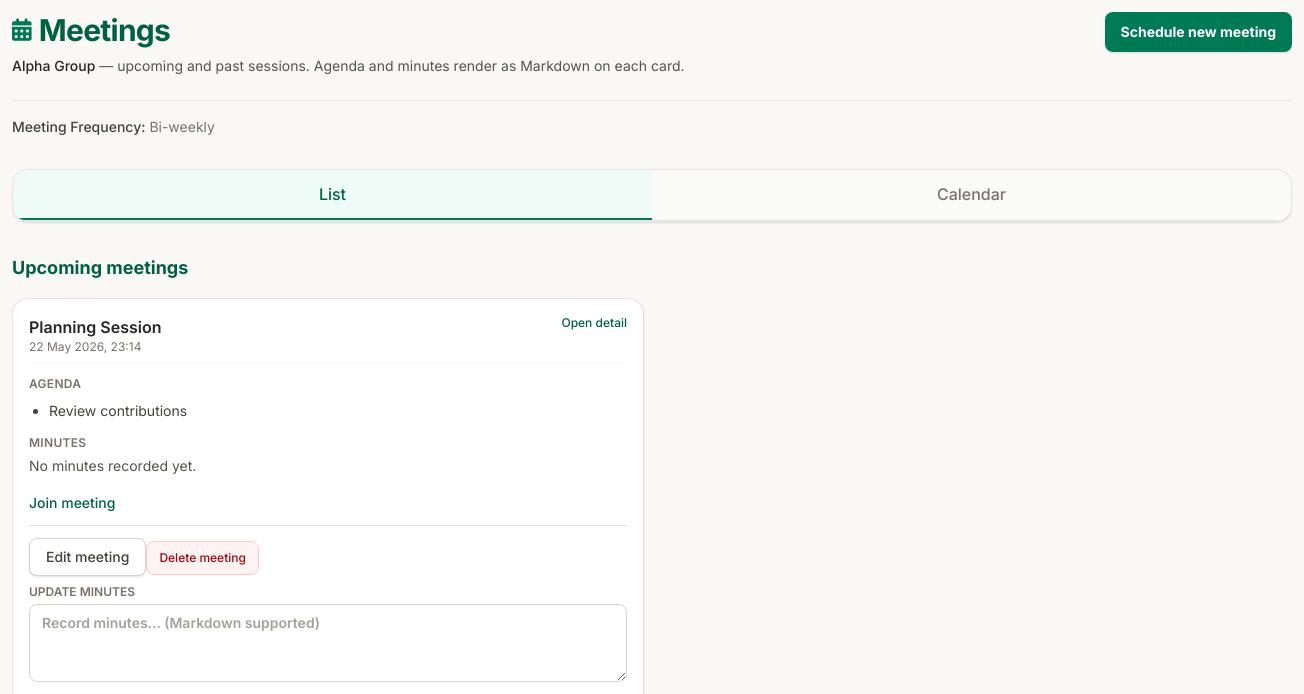
Meetings page › saves minutes and handles delete flow including success messages
The width and height of the screenshot is (1304, 694).
Expected: the text "Planning Session" is shown, [29,317,162,337]
Step 1. Type "new minutes" into the text box with placeholder "Record minutes… (Markdown supported)" → (328, 642), box [29,604,627,682]
(page scrolled)
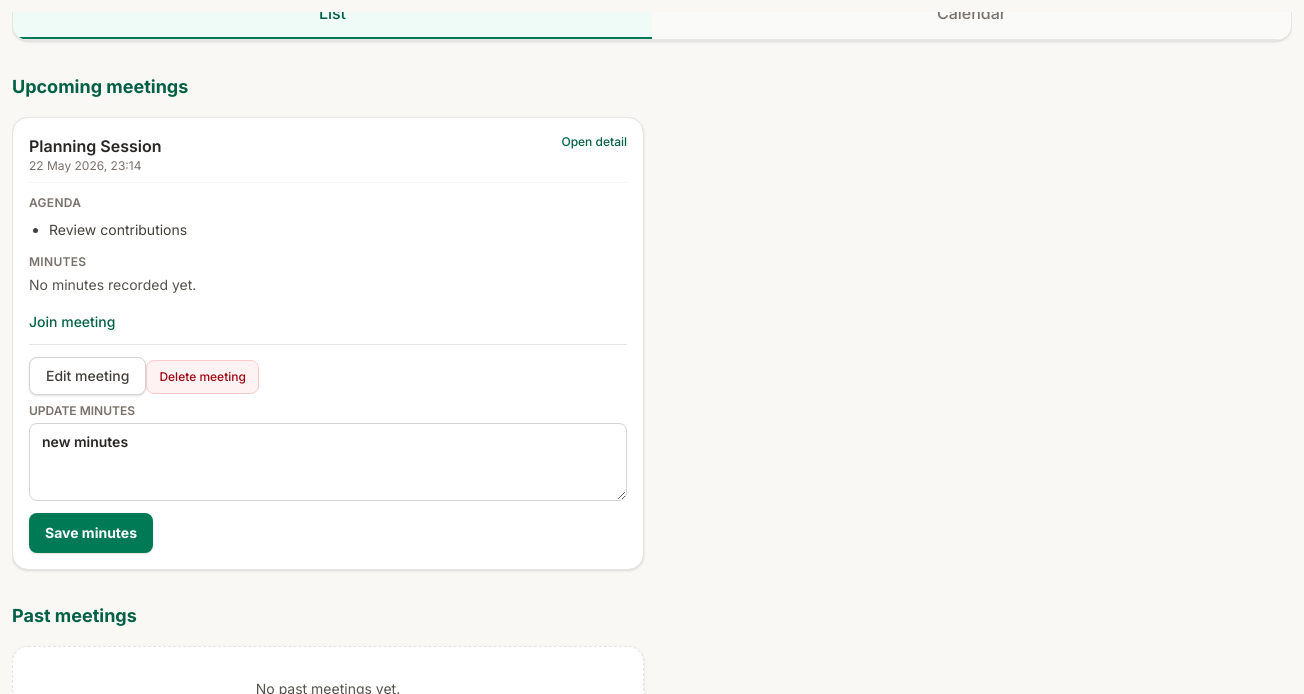
Step 2. Click the button "Save minutes" → click(91, 532), box [29,512,153,552]
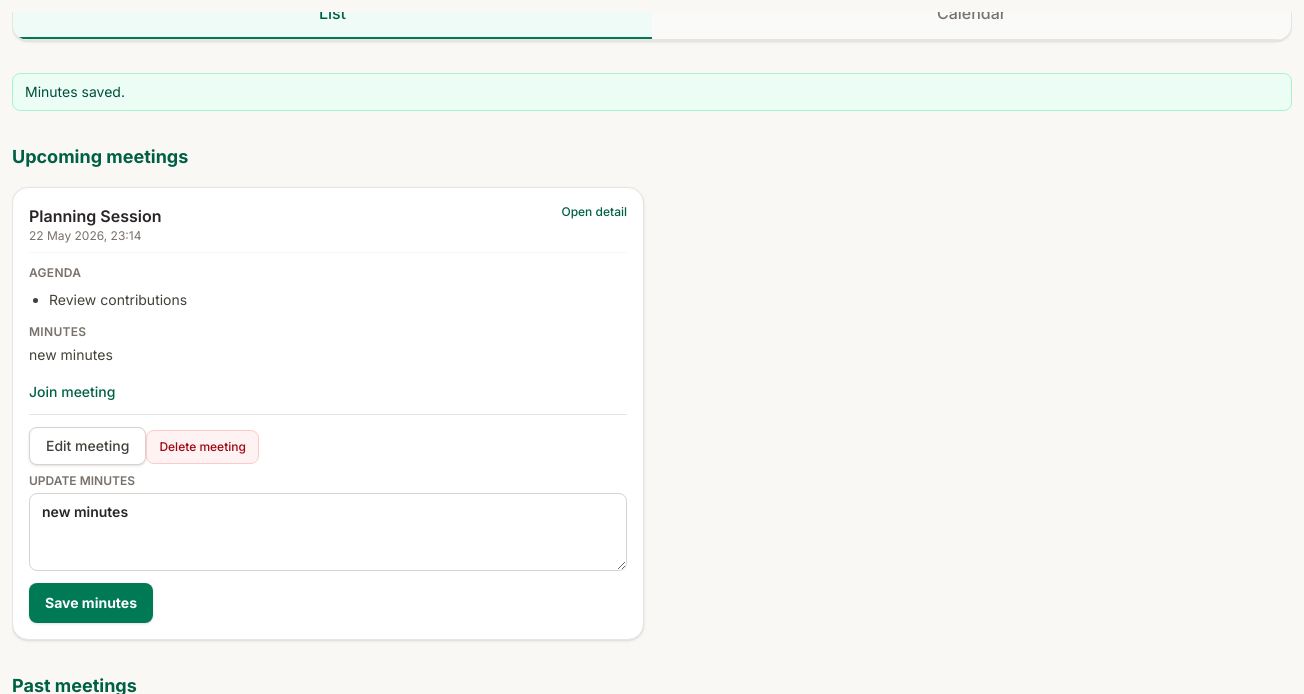
Now the text "Minutes saved." is shown, box [12,73,1292,111]
Step 3. Click the button "Delete meeting" → click(203, 446), box [146,430,259,464]
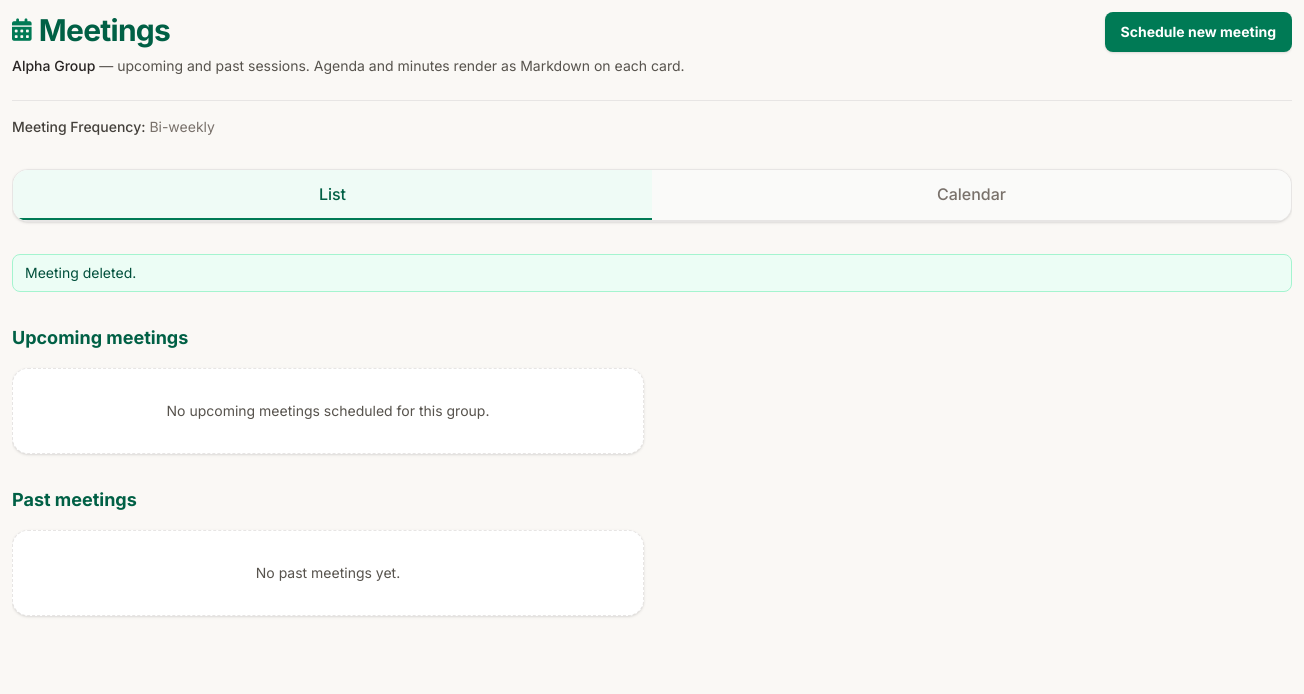
Now the text "Meeting deleted." is shown, box [12,254,1292,292]
Now the text "Planning Session" is gone
